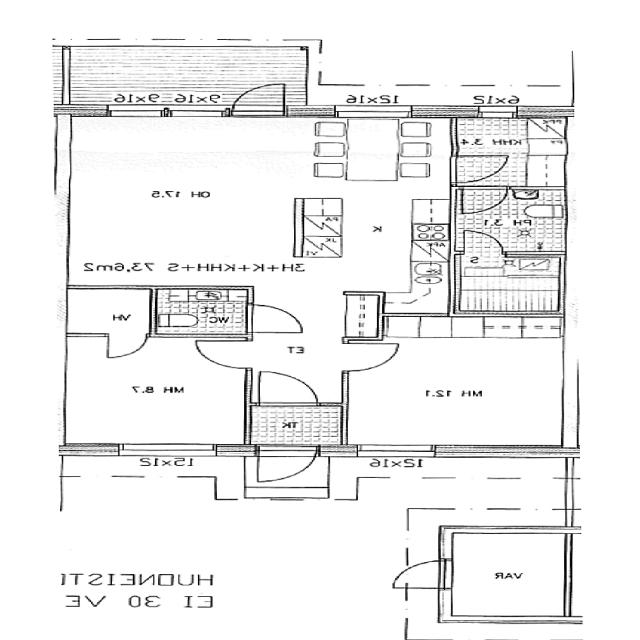door: (258, 445, 317, 489), (233, 78, 284, 118), (260, 372, 317, 407), (388, 561, 452, 589), (342, 344, 400, 372), (246, 305, 304, 332), (196, 342, 254, 368), (449, 156, 505, 182), (463, 186, 507, 214), (464, 230, 502, 258), (110, 334, 147, 358)
